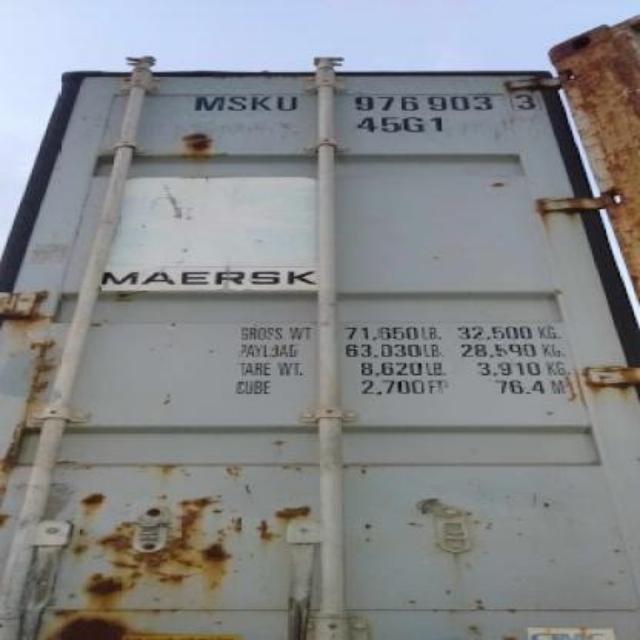0: (448, 95, 469, 111)
3: (470, 95, 496, 111), (512, 93, 538, 109)
6: (398, 95, 418, 111)
7: (376, 95, 396, 111)
9: (352, 95, 376, 111), (426, 95, 450, 111)
K: (250, 95, 274, 111)
M: (192, 95, 225, 111)
S: (226, 95, 250, 111)
U: (274, 96, 300, 112)
